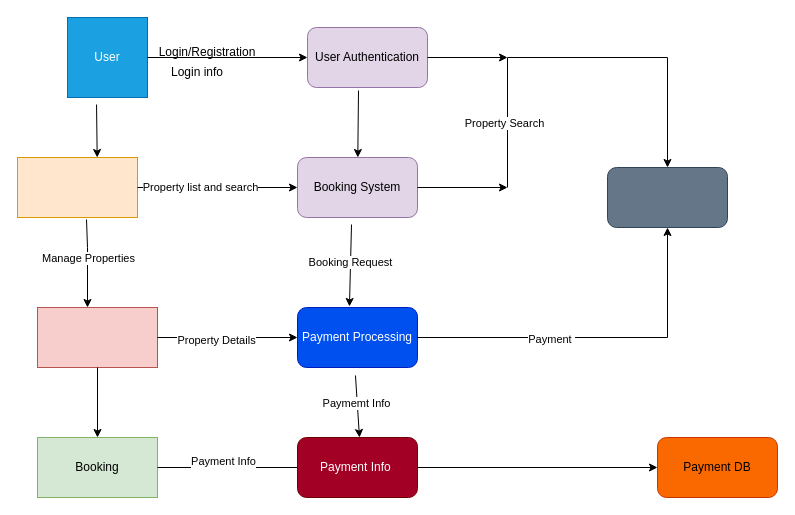
Some shapes in this 795 by 515 pixel diagram are drawn without their labels. The shapes that lost their labels are listed below. From the top down, each one's centre as x and y in pixels, then its label:
the point at 77,187: Admin
the point at 667,197: Payment Gateway
the point at 97,337: Property
